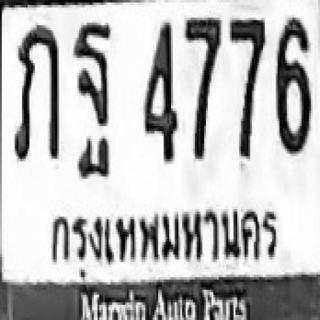A16: (73, 19, 111, 155), (72, 33, 112, 156)
A32: (12, 24, 60, 160), (12, 43, 60, 159)
N04: (142, 20, 176, 161)
N06: (275, 15, 312, 154)
N07: (184, 15, 221, 159), (229, 18, 266, 156), (228, 16, 265, 135), (184, 15, 221, 126), (228, 16, 265, 122), (228, 18, 265, 108)
P04: (40, 198, 282, 280)
